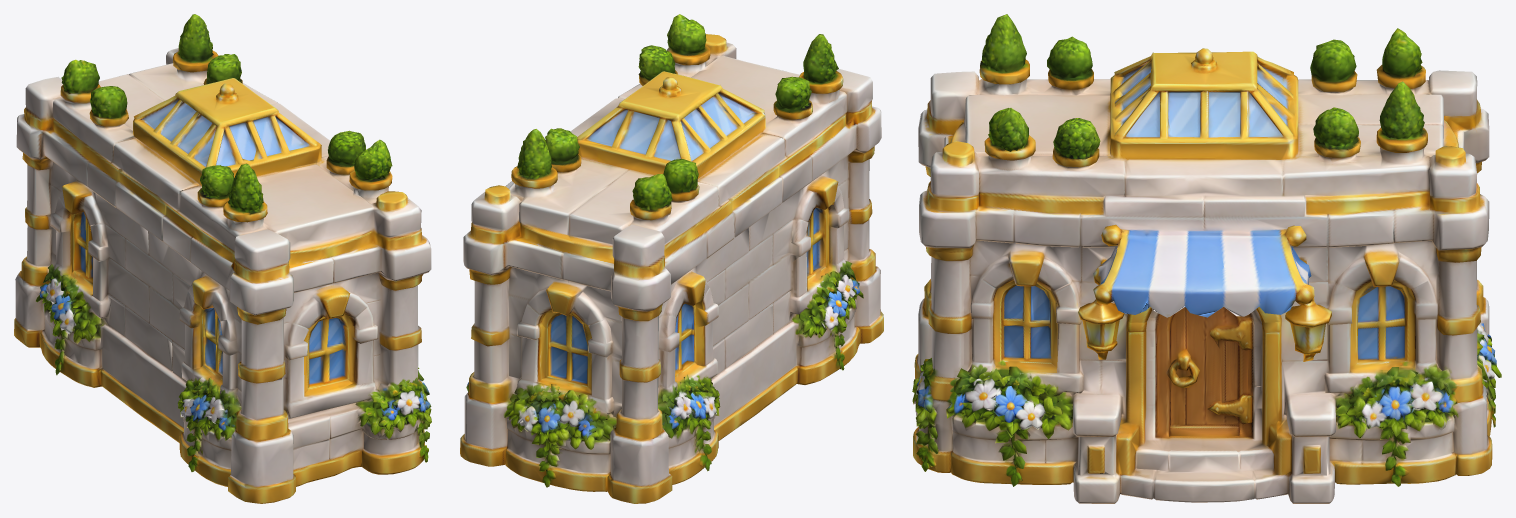
The model's file is HaloDomeHouse_05_HD_src.glb.
3 renders of one model, left to right at view 1: azimuth 30°, elevation 25°; view 2: azimuth 150°, elevation 25°; view 3: azimuth 270°, elevation 25°, orthographic. The views are drawn at different scales.
Visible parts, largest first — view 1: tripo_node_bf6e2a3f-77d3-4a8f-91bf-f0c5a0c96bb6; view 2: tripo_node_bf6e2a3f-77d3-4a8f-91bf-f0c5a0c96bb6; view 3: tripo_node_bf6e2a3f-77d3-4a8f-91bf-f0c5a0c96bb6.
Part boxes in pixels (<box>): tripo_node_bf6e2a3f-77d3-4a8f-91bf-f0c5a0c96bb6: <box>14,14,431,503</box>; tripo_node_bf6e2a3f-77d3-4a8f-91bf-f0c5a0c96bb6: <box>460,14,883,503</box>; tripo_node_bf6e2a3f-77d3-4a8f-91bf-f0c5a0c96bb6: <box>912,14,1501,503</box>.
Bounding box in the file's own units: 0.5857 × 0.6978 × 0.9801.
Materials: 1 (1 with a texture image).
